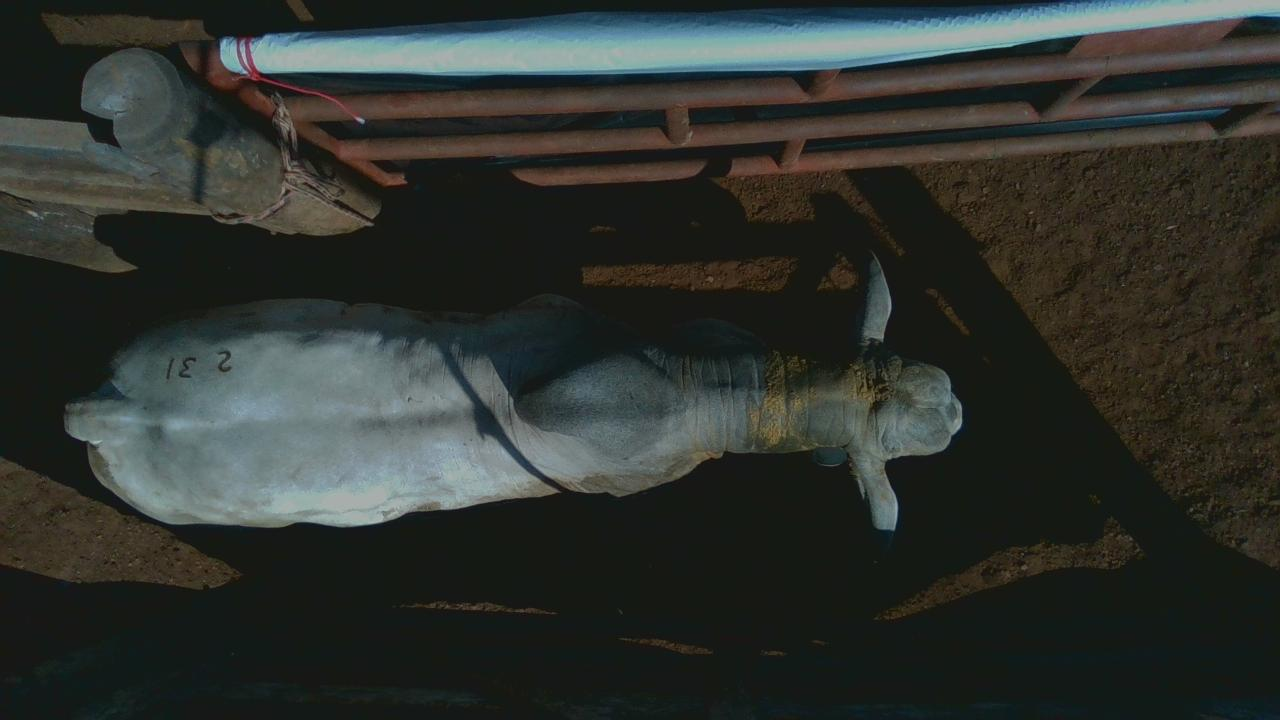cattle: (63, 247, 963, 539)
